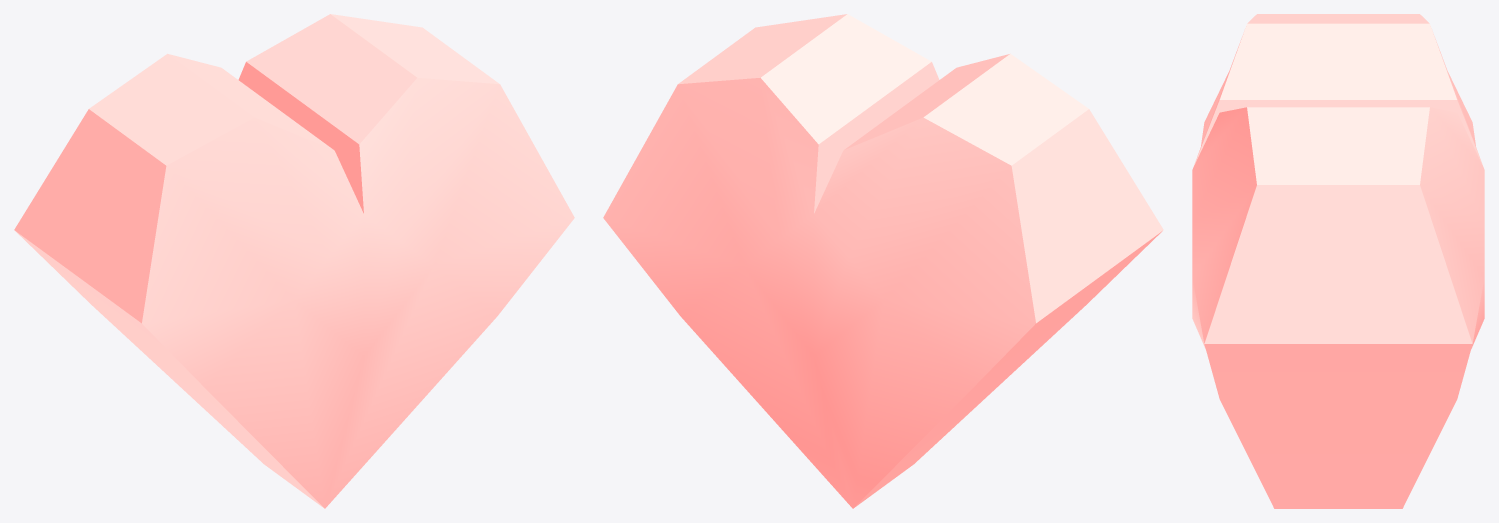
Rendered from Heart.fbx.
The picture shows the model from 3 angles, left to right: view 1: azimuth 30°, elevation 25°; view 2: azimuth 150°, elevation 25°; view 3: azimuth 270°, elevation 25°; orthographic projection. The views are drawn at different scales.
Visible parts, largest first — view 1: Plane; view 2: Plane; view 3: Plane.
Part boxes in pixels (x1,y1,x2,y2): Plane: (14, 14, 574, 508); Plane: (603, 14, 1163, 508); Plane: (1192, 14, 1484, 508).
Size of the model in its own units: 442 by 411 by 246.
